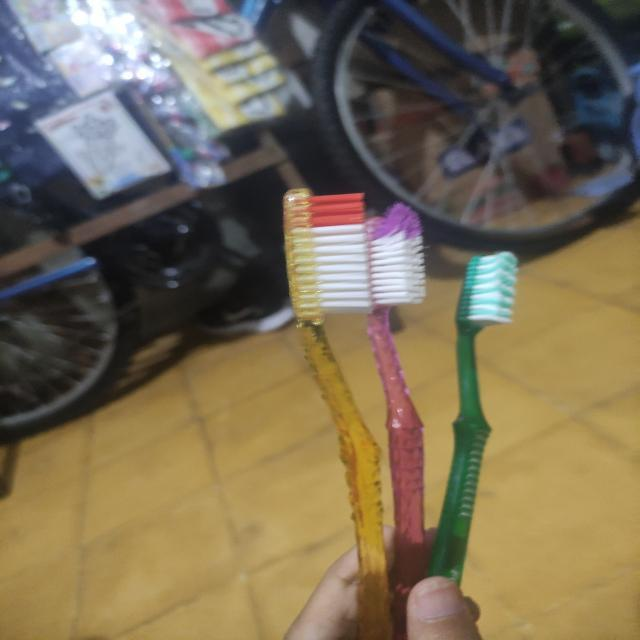toothbrush: (276, 185, 396, 640), (418, 248, 526, 640), (347, 191, 437, 640)
